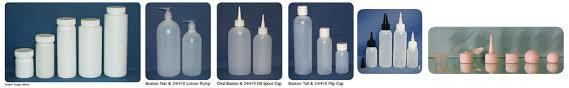Container for household chemicals: (95, 6, 131, 78), (152, 6, 181, 80), (78, 10, 104, 79), (247, 10, 274, 76), (178, 18, 208, 76), (226, 10, 251, 78), (293, 6, 314, 77), (54, 16, 78, 78), (28, 30, 55, 78), (316, 21, 334, 80), (390, 10, 406, 68), (375, 11, 389, 69), (12, 46, 37, 78), (336, 32, 351, 78), (406, 28, 421, 68), (364, 30, 376, 70)
